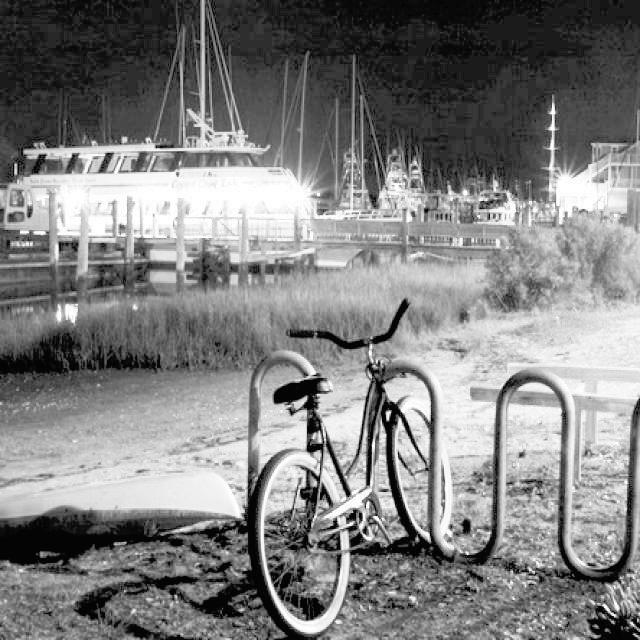Bicycle: (252, 323, 465, 620)
